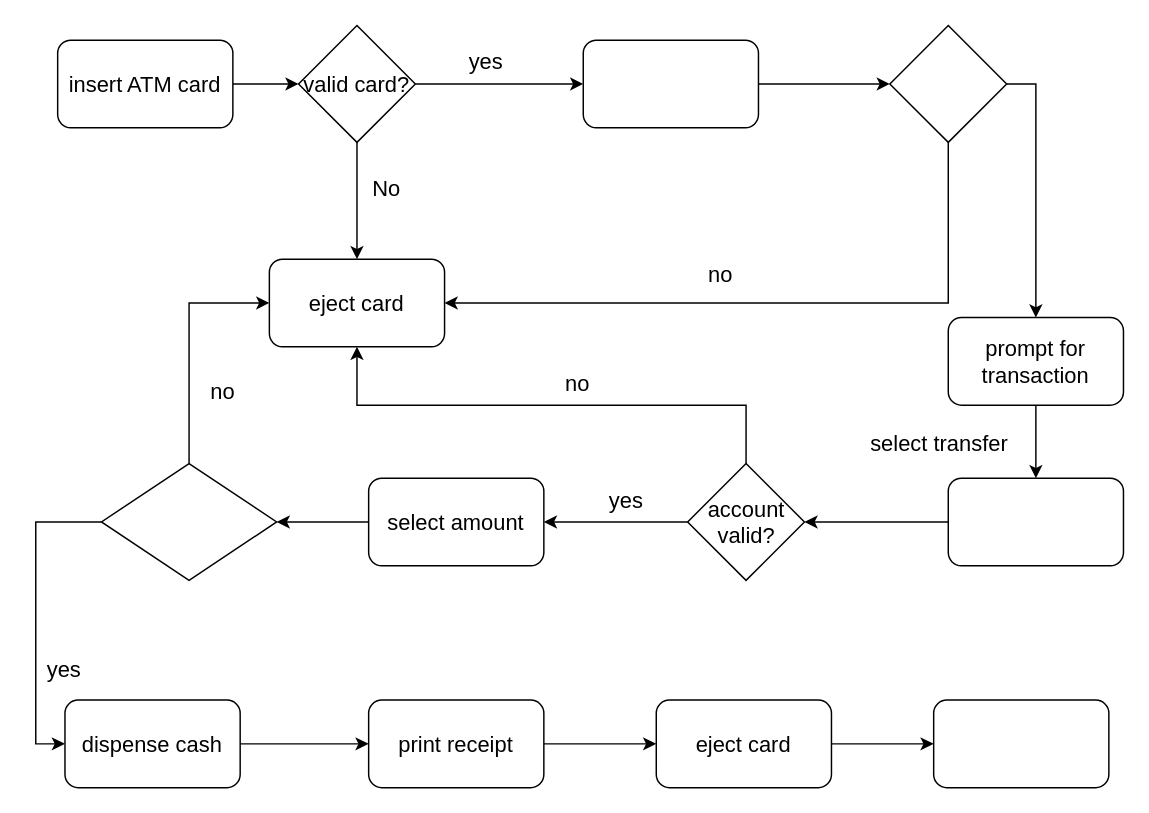
The diagram is 1149 pixels wide and 813 high, and some of its shapes have lost their labels. The box of each missing label's shape, as (x1, y1, x2, y2) in pixels:
enter aim account: (947, 477, 1123, 566)
enter PIN: (582, 39, 758, 128)
fund sufficient?: (100, 462, 277, 580)
PIN correct?: (888, 24, 1007, 142)
print welecome message: (932, 699, 1109, 788)
